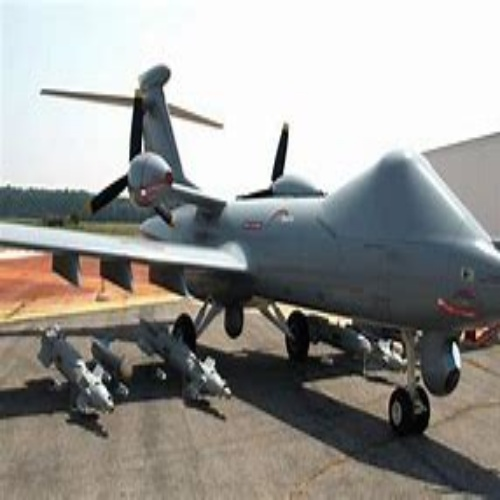uav: (1, 66, 500, 430)
